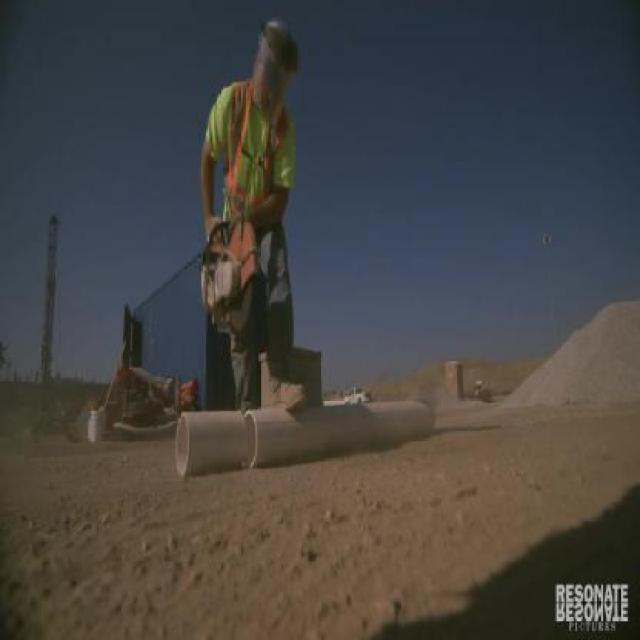Vest: (200, 75, 298, 220)
helmet: (254, 18, 292, 76)
person: (198, 23, 309, 411)
